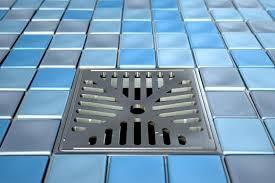open drainage-not overflowing-: (58, 64, 224, 154)
